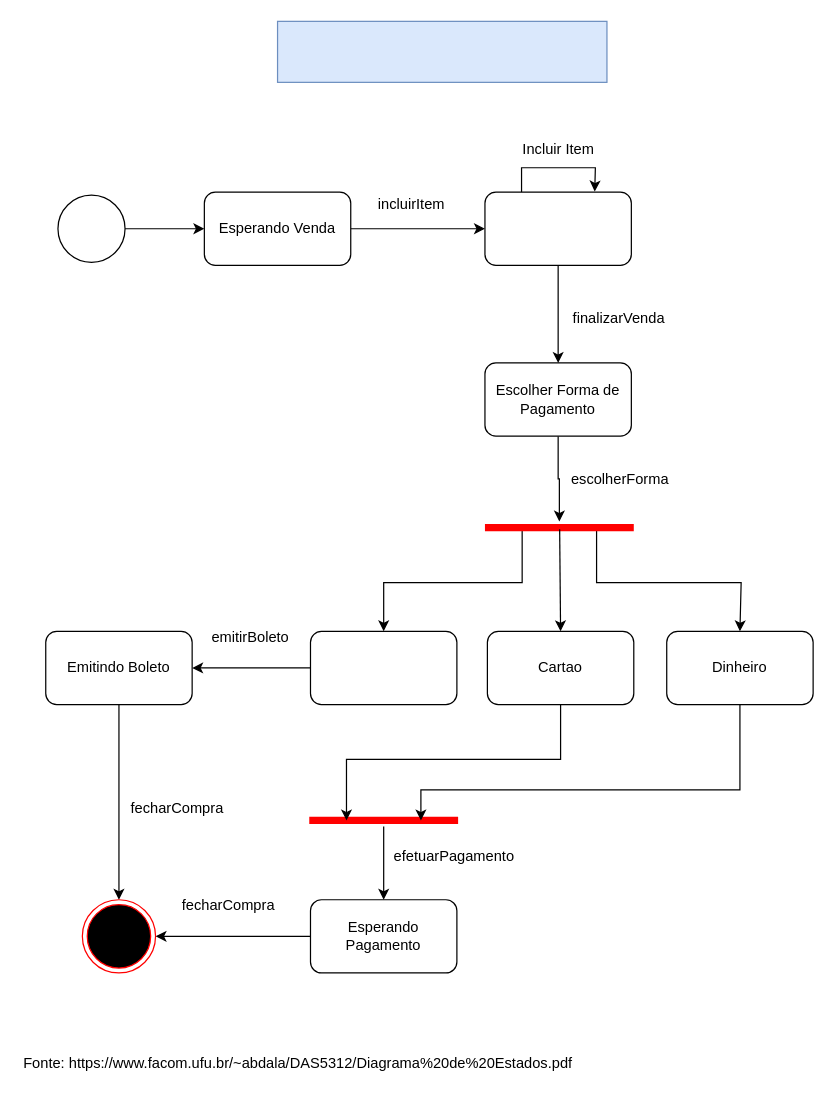
This 834x1116 diagram has some shape labels left out. Here are the shapes that lost their labels. From the top down, the centre of each, then its label:
the point at 441,51: Diagrama de Estado
the point at 557,228: Incluindo Iterns
the point at 383,667: Boleto
